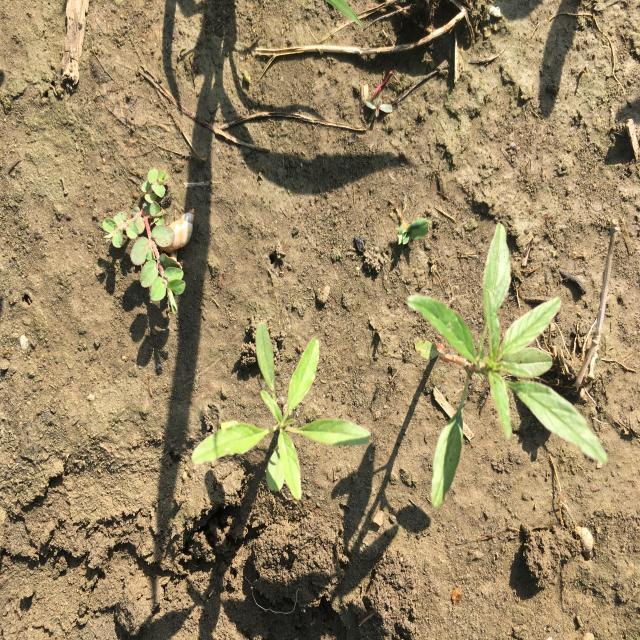SpottedSpurge: (102, 168, 186, 316)
Waterhemp: (406, 221, 610, 509), (190, 320, 372, 503)
